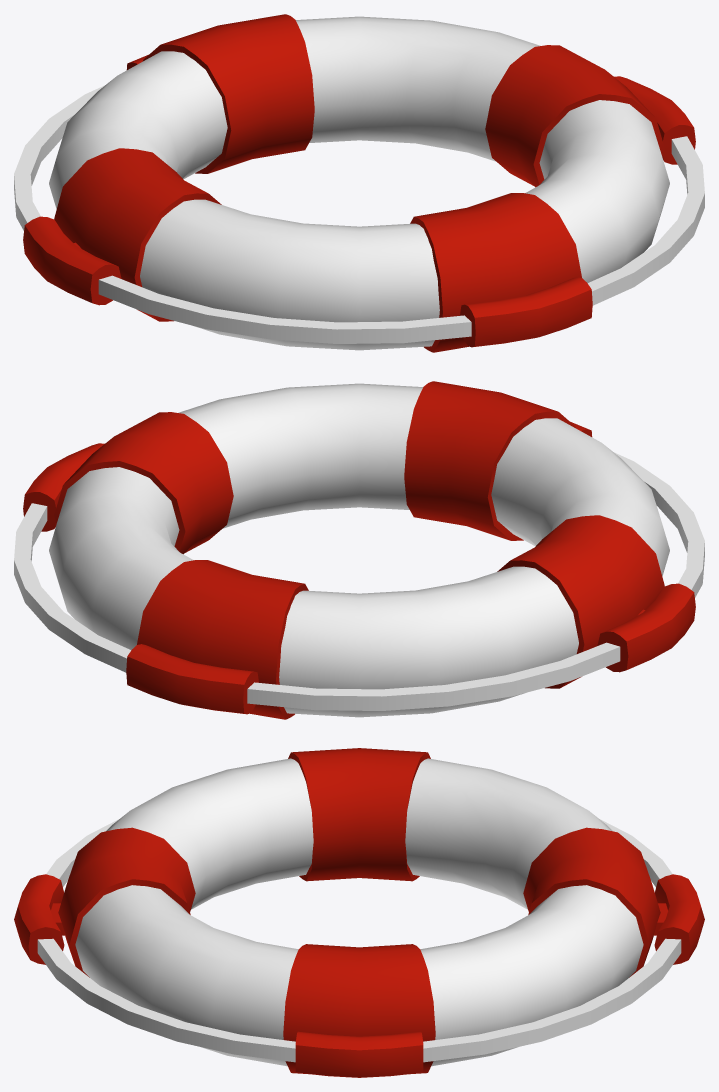
The model's file is RescueRing.fbx.
3 views of the same model, one above another, from view 1: azimuth 30°, elevation 25°; view 2: azimuth 150°, elevation 25°; view 3: azimuth 270°, elevation 25° (orthographic). The views are drawn at different scales.
Visible parts, largest first — view 1: RescueRing; view 2: RescueRing; view 3: RescueRing.
Part boxes in pixels (<box>): RescueRing: <box>14,14,704,352</box>; RescueRing: <box>14,381,704,719</box>; RescueRing: <box>14,748,704,1077</box>.
Bounding box in the file's own units: 65 × 12.3 × 65.
